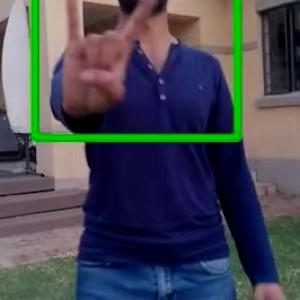takeoff-hand: (53, 0, 165, 118)
